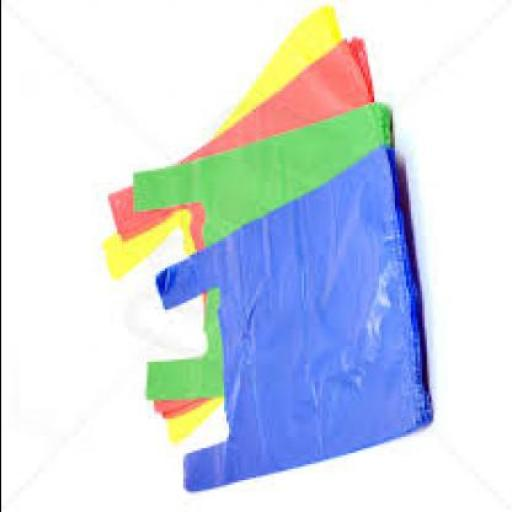plastic: (103, 2, 339, 446), (104, 36, 370, 417), (152, 143, 428, 492), (130, 103, 389, 398)
